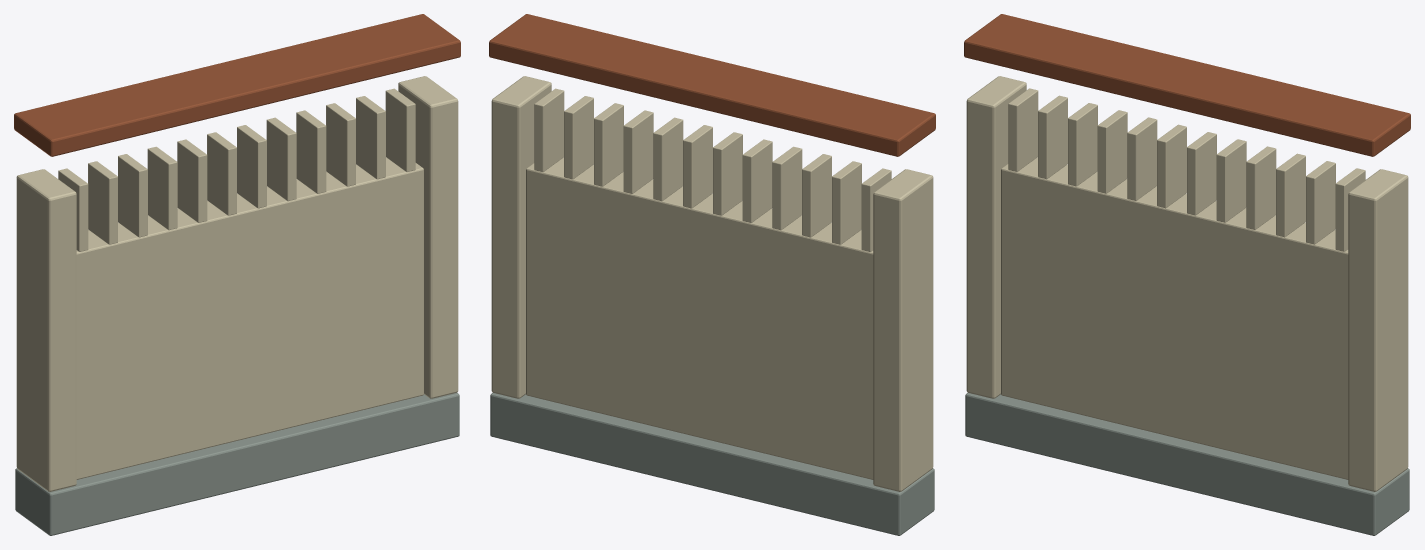
The model's file is source-edit.glb.
The picture shows the model from 3 angles, left to right: view 1: azimuth 30°, elevation 25°; view 2: azimuth 150°, elevation 25°; view 3: azimuth 330°, elevation 25°; orthographic projection.
Visible parts, largest first — view 1: WALL_Infill, WALL_Cap, WALL_Base, WALL_EndPier, WALL_EndPier.001, VENT_Upright_4, VENT_Upright_8, VENT_Upright_7, VENT_Upright_3, VENT_Upright_11, VENT_Upright_10, VENT_Upright_1 (+5 smaller); view 2: WALL_Infill, WALL_Cap, WALL_Base, WALL_EndPier, WALL_EndPier.001, VENT_Upright_4, VENT_Upright_8, VENT_Upright_7, VENT_Upright_3, VENT_Upright_11, VENT_Upright_10, VENT_Upright_1 (+5 smaller); view 3: WALL_Infill, WALL_Cap, WALL_Base, WALL_EndPier.001, WALL_EndPier, VENT_Upright_7, VENT_Upright_3, VENT_Upright_0, VENT_Upright_4, VENT_Upright_8, VENT_Upright_1, VENT_Upright_5 (+5 smaller).
Part boxes in pixels (<box>): WALL_Infill: <box>76,157,423,479</box>; WALL_Cap: <box>14,14,460,156</box>; WALL_Base: <box>15,393,459,535</box>; WALL_EndPier: <box>16,169,76,491</box>; WALL_EndPier.001: <box>398,76,458,398</box>; VENT_Upright_4: <box>177,139,207,222</box>; VENT_Upright_8: <box>296,110,326,193</box>; VENT_Upright_7: <box>266,117,296,201</box>; VENT_Upright_3: <box>147,146,177,230</box>; VENT_Upright_11: <box>385,88,415,171</box>; VENT_Upright_10: <box>356,96,385,179</box>; VENT_Upright_1: <box>88,161,117,244</box>; WALL_Infill: <box>526,157,873,479</box>; WALL_Cap: <box>489,14,935,156</box>; WALL_Base: <box>490,393,934,535</box>; WALL_EndPier: <box>873,169,933,491</box>; WALL_EndPier.001: <box>491,76,551,398</box>; VENT_Upright_4: <box>742,139,772,222</box>; VENT_Upright_8: <box>623,110,653,193</box>; VENT_Upright_7: <box>653,117,683,201</box>; VENT_Upright_3: <box>772,146,802,230</box>; VENT_Upright_11: <box>534,88,564,171</box>; VENT_Upright_10: <box>564,96,593,179</box>; VENT_Upright_1: <box>832,161,861,244</box>; WALL_Infill: <box>1001,157,1348,479</box>; WALL_Cap: <box>964,14,1410,156</box>; WALL_Base: <box>965,393,1409,535</box>; WALL_EndPier.001: <box>1348,169,1408,491</box>; WALL_EndPier: <box>966,76,1026,398</box>; VENT_Upright_7: <box>1216,139,1246,222</box>; VENT_Upright_3: <box>1097,110,1127,193</box>; VENT_Upright_0: <box>1008,88,1038,171</box>; VENT_Upright_4: <box>1127,117,1157,200</box>; VENT_Upright_8: <box>1246,146,1276,229</box>; VENT_Upright_1: <box>1038,95,1067,179</box>; VENT_Upright_5: <box>1157,124,1186,208</box>.
Bounding box in the file's own units: 2 × 1.85 × 0.32.
